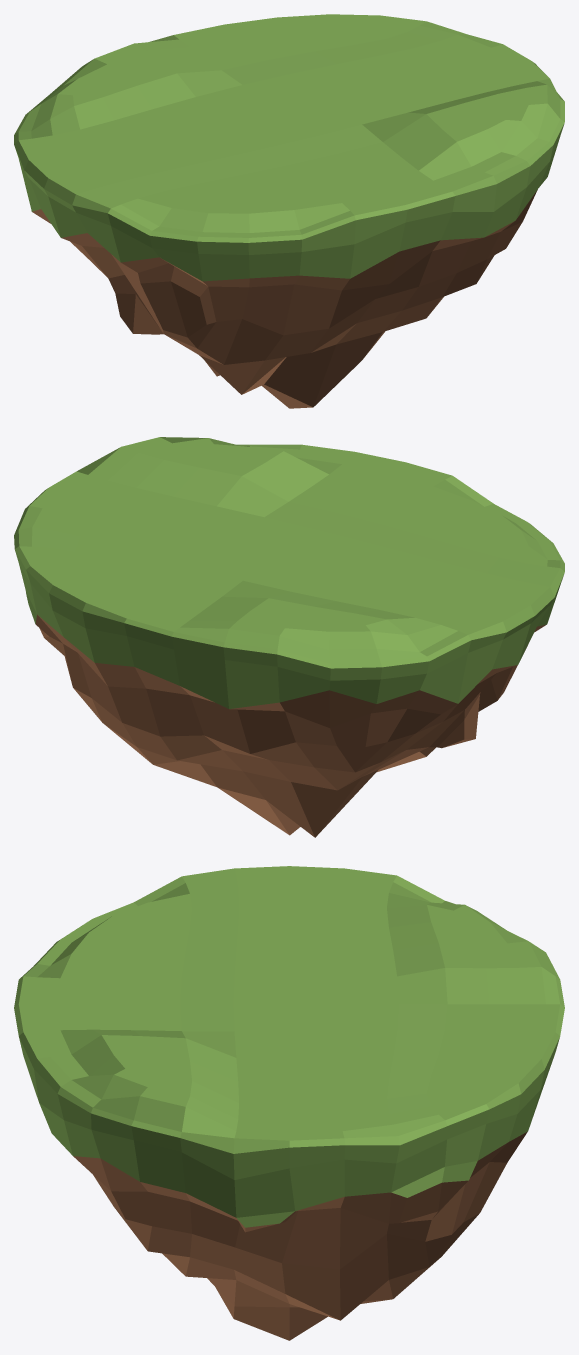
Rendered from Island-Small.fbx.
The picture shows the model from 3 angles, top to bottom: view 1: azimuth 30°, elevation 25°; view 2: azimuth 150°, elevation 25°; view 3: azimuth 270°, elevation 25°; orthographic projection. The views are drawn at different scales.
Visible parts, largest first — view 1: Island-Small; view 2: Island-Small; view 3: Island-Small.
Boxes of the visible parts, x1=… form: Island-Small: x1=14, y1=14, x2=564, y2=408; Island-Small: x1=14, y1=437, x2=564, y2=837; Island-Small: x1=14, y1=866, x2=564, y2=1340.
Bounding box in the file's own units: 833 × 494 × 694.
